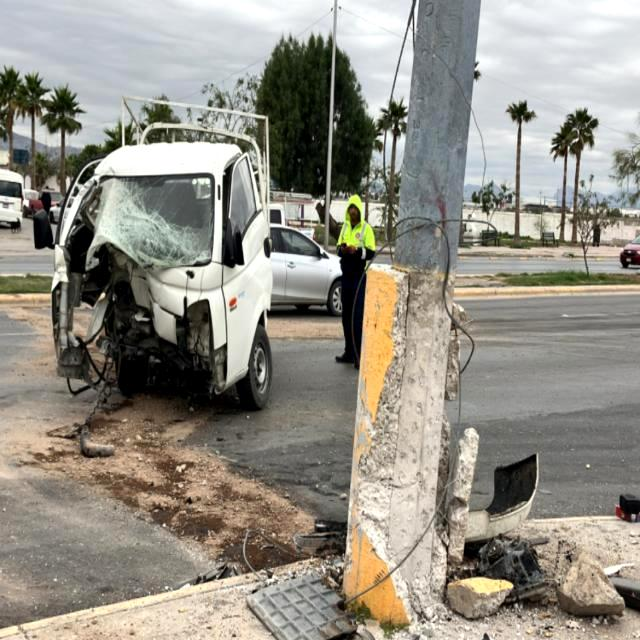Broken Pole: (335, 0, 484, 633)
